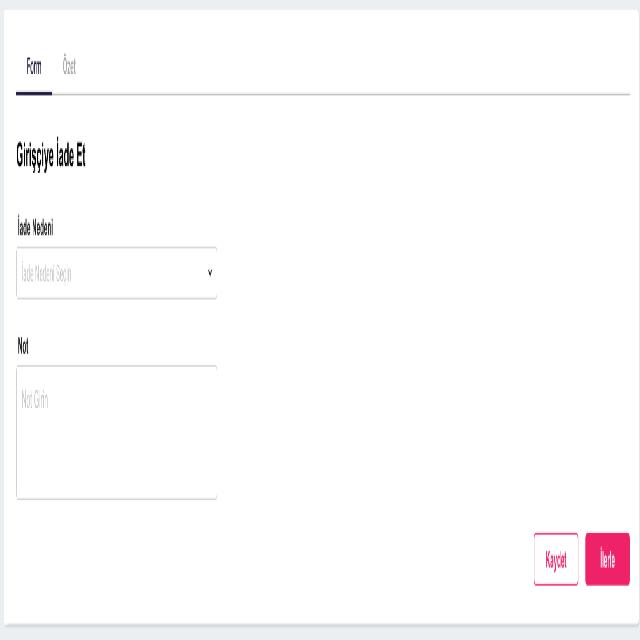QLabel: (14, 135, 86, 177), (16, 211, 54, 240), (23, 51, 43, 81), (545, 546, 566, 574), (62, 50, 76, 80), (600, 544, 615, 572), (17, 331, 29, 359)
VBtn: (533, 531, 579, 588), (585, 530, 630, 588)
VCard: (3, 5, 639, 628)
VCombobox: (15, 246, 218, 300)
VTab: (12, 38, 56, 100), (59, 36, 81, 100)
VTabs: (7, 25, 636, 111)
VTextarea: (16, 363, 218, 503)
